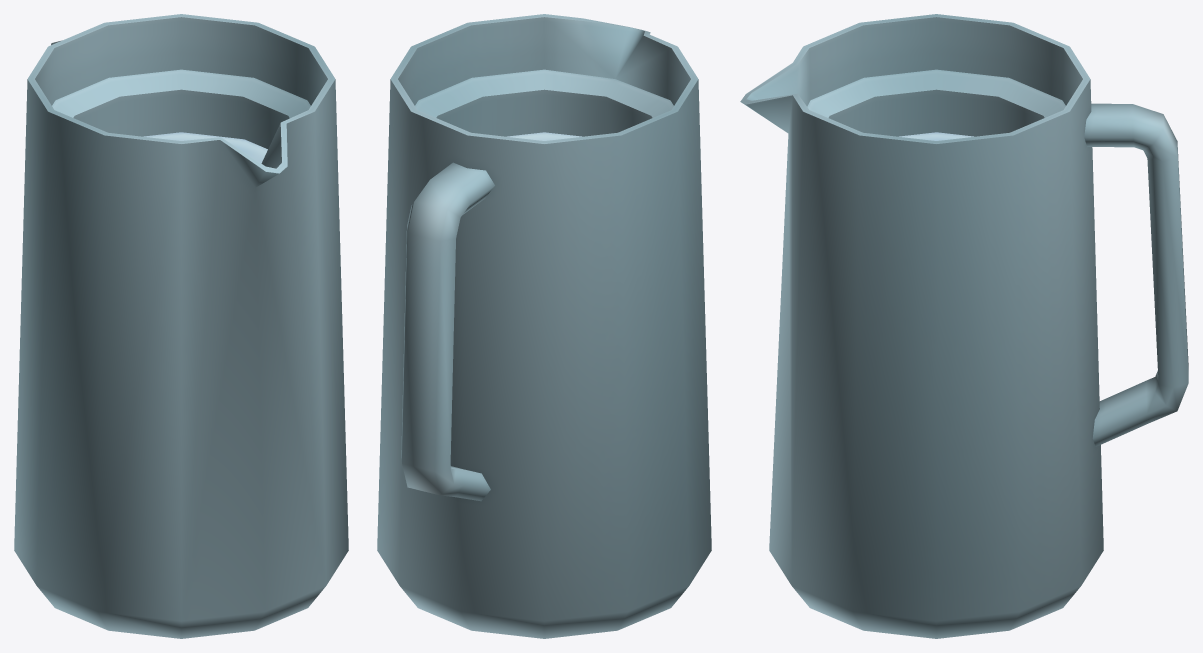
Rendered from jsf_WaterPitcher_02.fbx.
3 views of the same model, side by side, from view 1: azimuth 30°, elevation 25°; view 2: azimuth 150°, elevation 25°; view 3: azimuth 270°, elevation 25° (orthographic).
Visible parts, largest first — view 1: jsf_WaterPitcher_02; view 2: jsf_WaterPitcher_02; view 3: jsf_WaterPitcher_02.
Boxes of the visible parts, x1=… form: jsf_WaterPitcher_02: x1=14, y1=14, x2=348, y2=638; jsf_WaterPitcher_02: x1=377, y1=14, x2=711, y2=638; jsf_WaterPitcher_02: x1=740, y1=14, x2=1188, y2=638.
Size of the model in its own units: 16.99 by 27.9 by 22.76.
